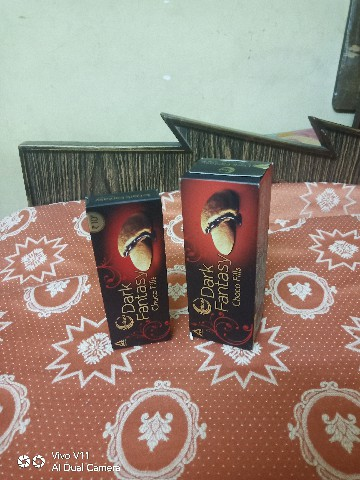darkfantasy big: (178, 144, 280, 382)
darkfantasy small: (83, 174, 176, 388)
